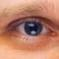eye: (24, 22, 42, 35)
